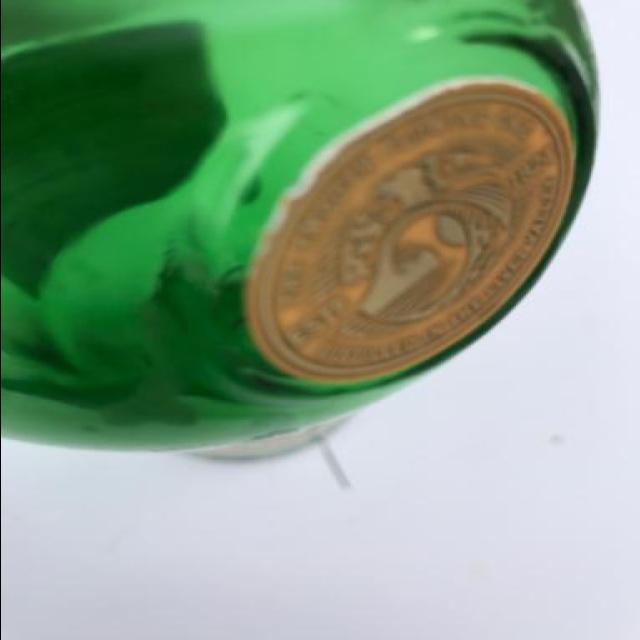litter: (6, 5, 608, 451)
